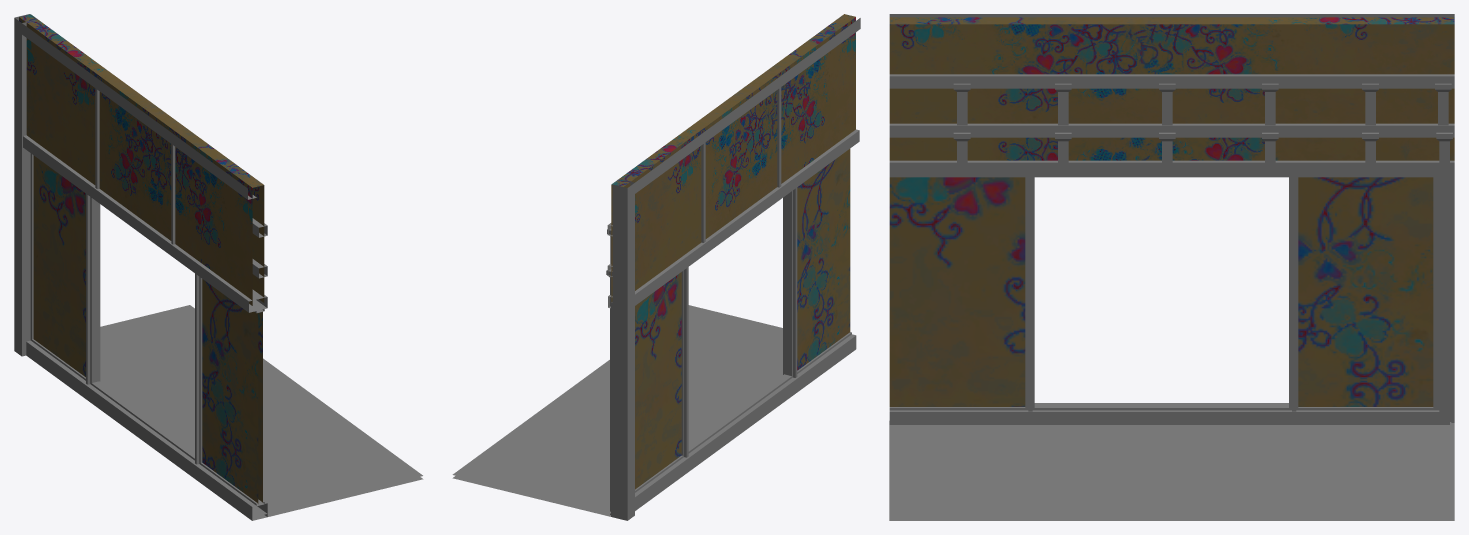
File: FL3_Exterior_Doors.fbx
3 renders of one model, left to right at view 1: azimuth 30°, elevation 25°; view 2: azimuth 150°, elevation 25°; view 3: azimuth 270°, elevation 25°, orthographic. The views are drawn at different scales.
Visible parts, largest first — view 1: FL3_Exterior_Doors; view 2: FL3_Exterior_Doors; view 3: FL3_Exterior_Doors.
Boxes of the visible parts, x1,y1,x2,y2 form: FL3_Exterior_Doors: (14,14,423,520); FL3_Exterior_Doors: (452,14,860,520); FL3_Exterior_Doors: (889,14,1454,520).
Bounding box in the file's own units: 221 × 401 × 509.
